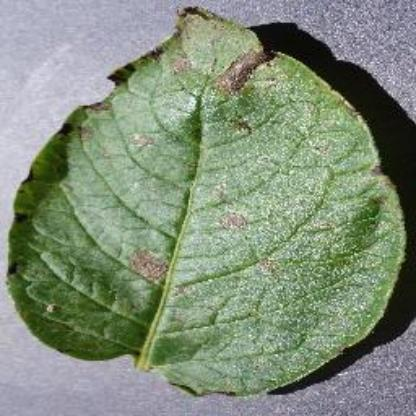Early-Blight: (15, 4, 416, 398)
